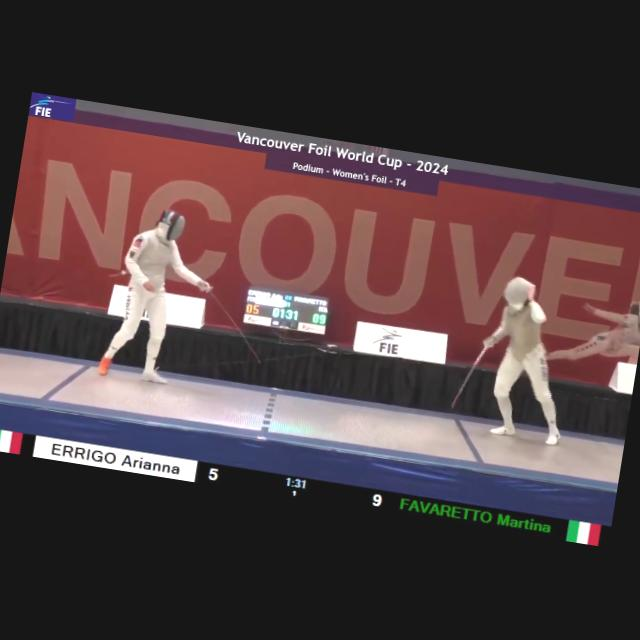blade: (192, 281, 273, 364), (450, 330, 499, 416)
